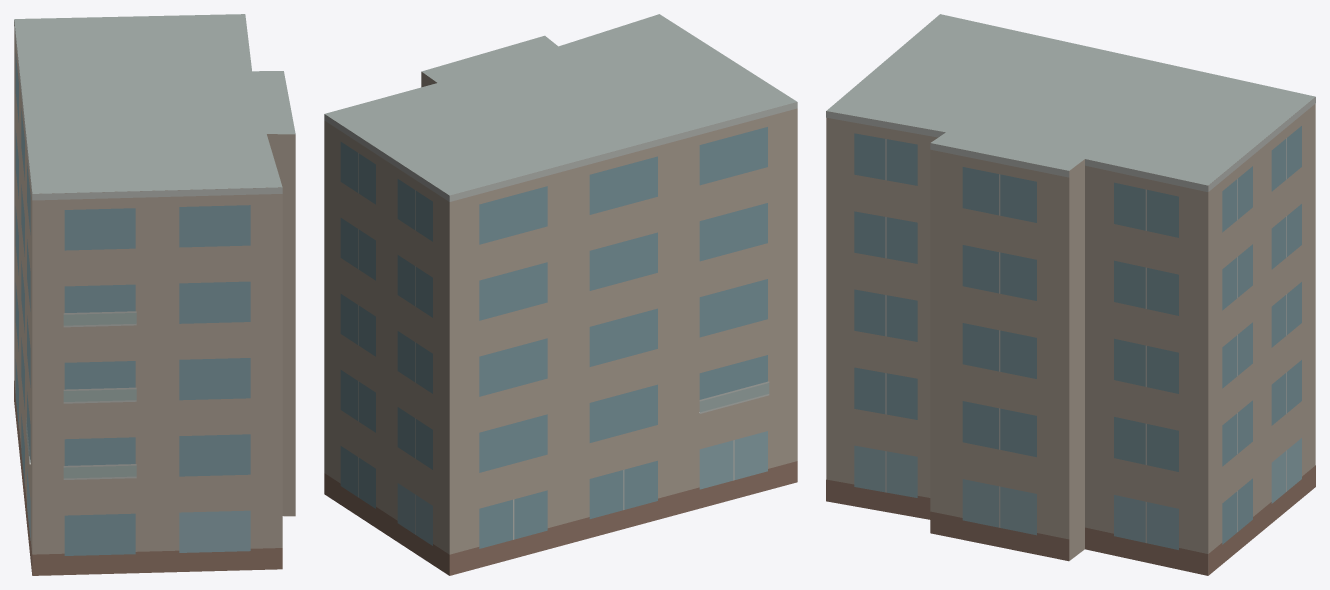
The model's file is survey-upis-32892620.glb.
The picture shows the model from 3 angles, left to right: view 1: azimuth 30°, elevation 25°; view 2: azimuth 150°, elevation 25°; view 3: azimuth 270°, elevation 25°; orthographic projection. The views are drawn at different scales.
Parts seen in each view (by area): view 1: survey-upis-32892620.tmp; view 2: survey-upis-32892620.tmp; view 3: survey-upis-32892620.tmp.
Part boxes in pixels (x1,y1,x2,y2): survey-upis-32892620.tmp: [14, 14, 295, 575]; survey-upis-32892620.tmp: [324, 14, 797, 575]; survey-upis-32892620.tmp: [826, 14, 1315, 575].
Bounding box in the file's own units: 13.49 × 14.3 × 16.27.
